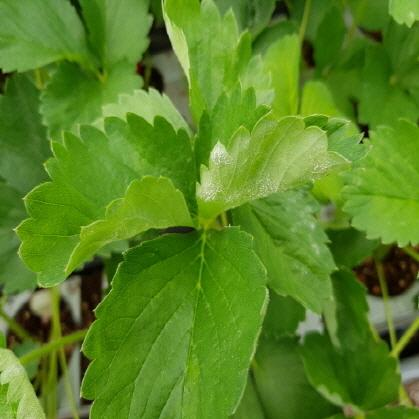Powdery Mildew Leaf: (191, 77, 373, 230), (229, 179, 337, 316), (161, 0, 275, 124), (0, 342, 47, 418)
